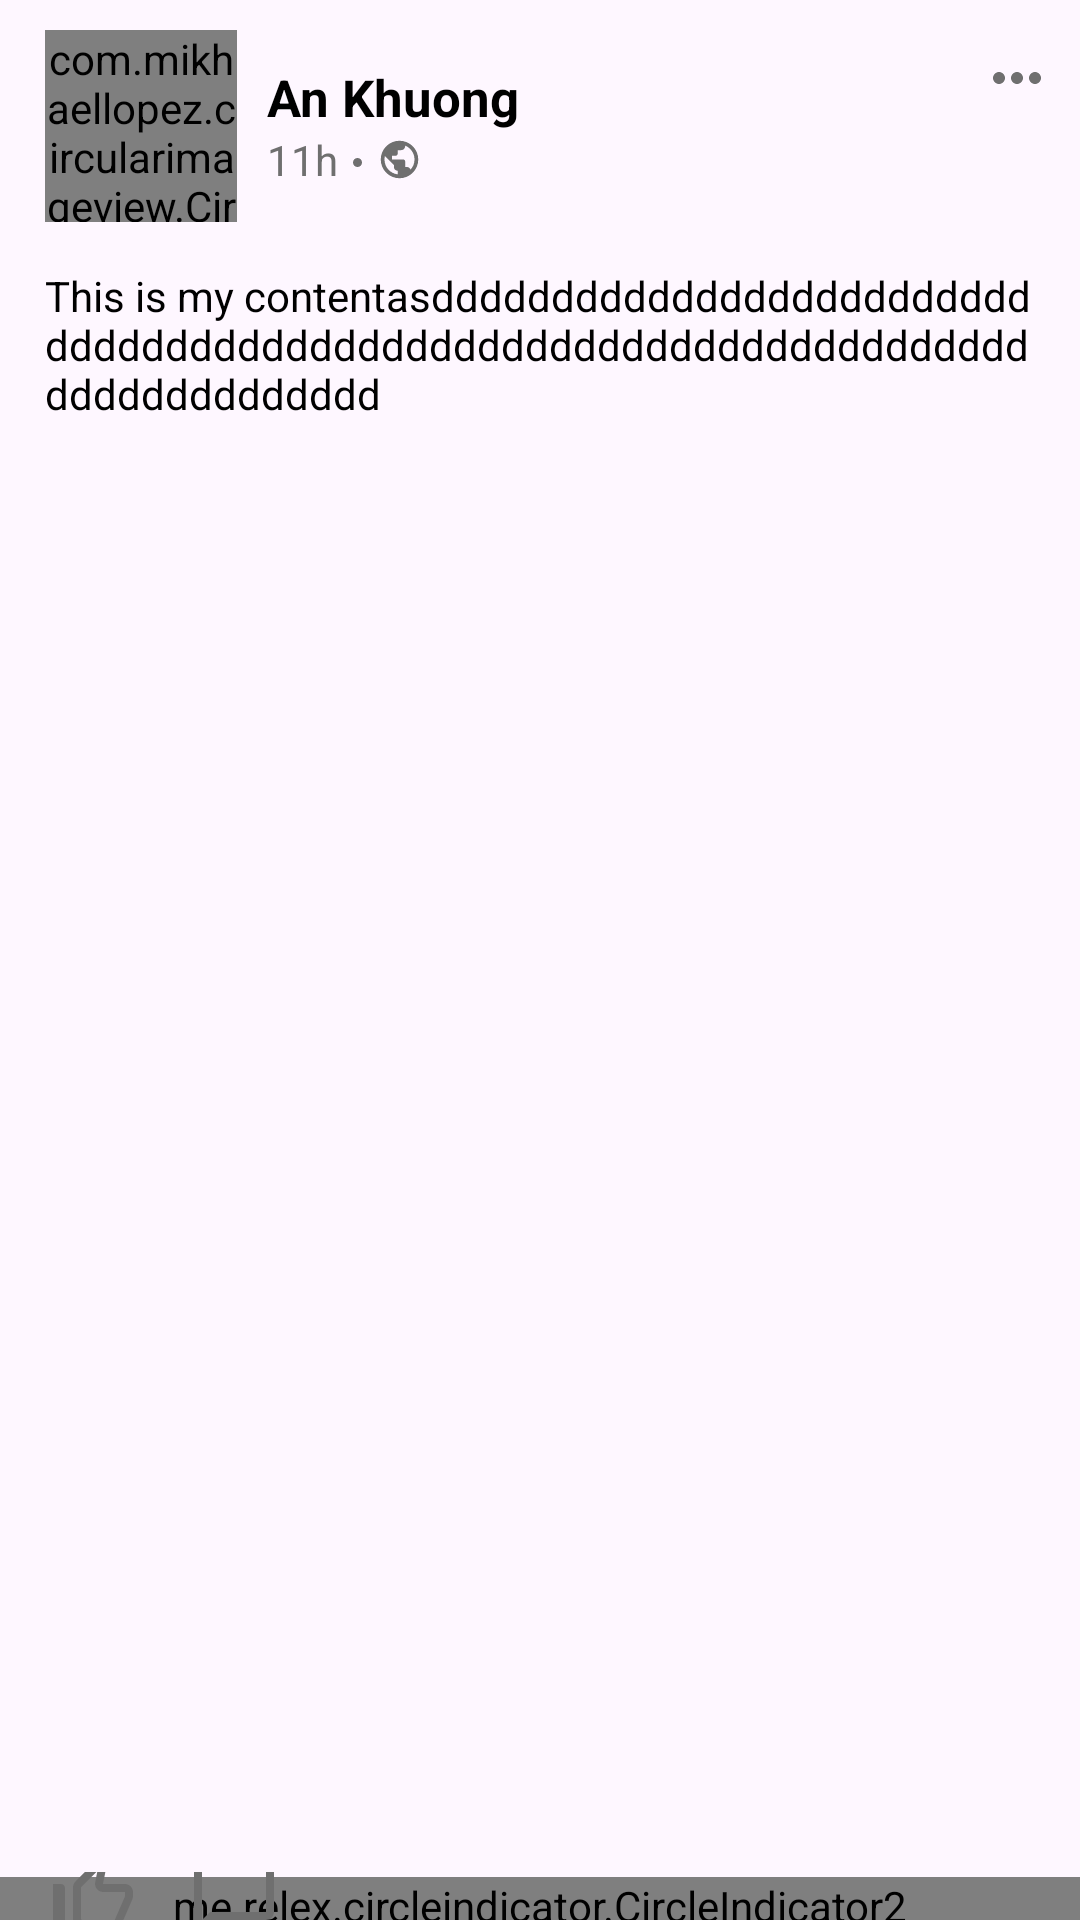

Icon click points for this 1080px x 1920px phone screenshot, format point (x, y):
more horiz: point (1017, 78)
public: point (399, 159)
